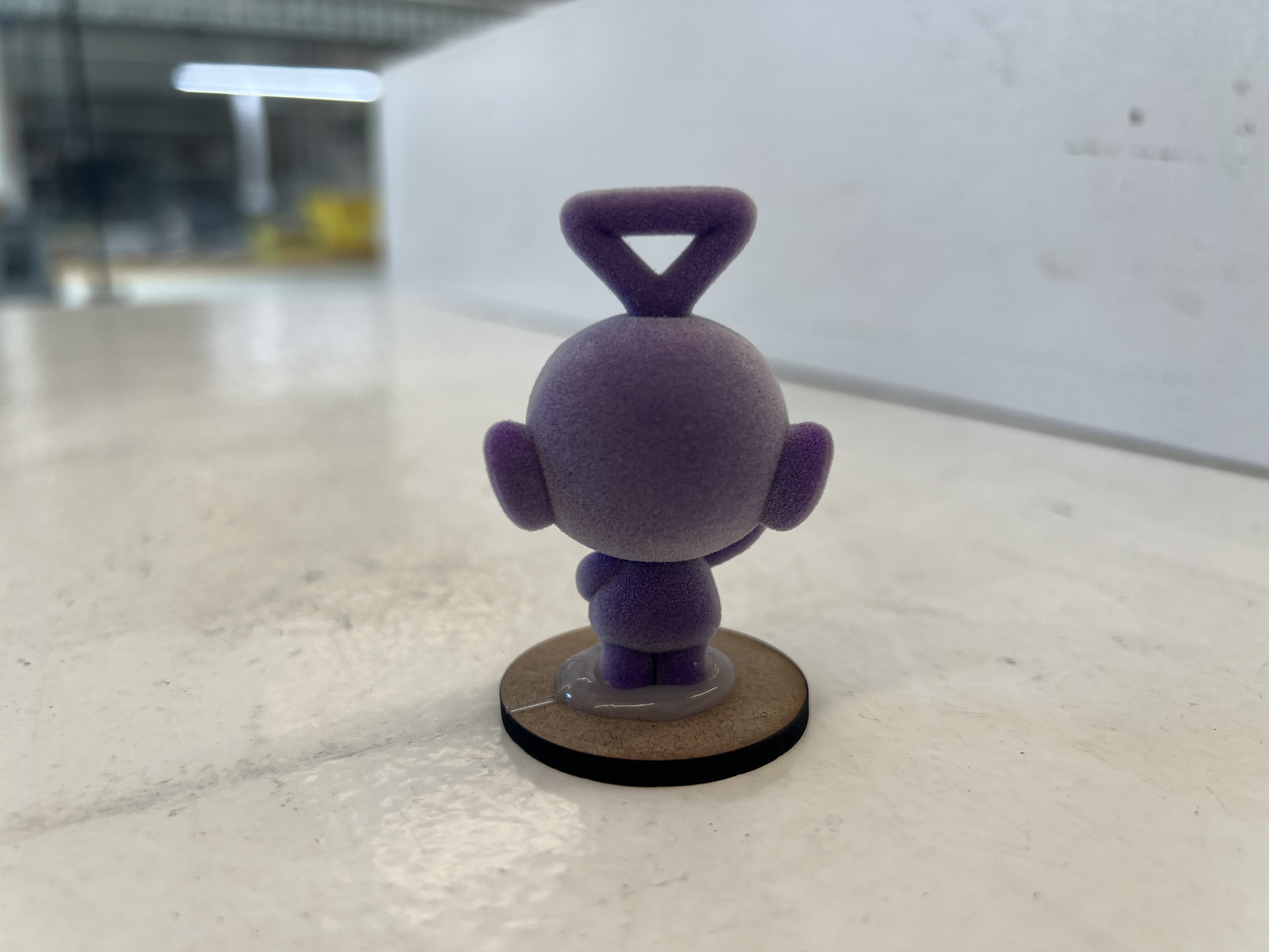teletubby: (485, 187, 834, 721)
